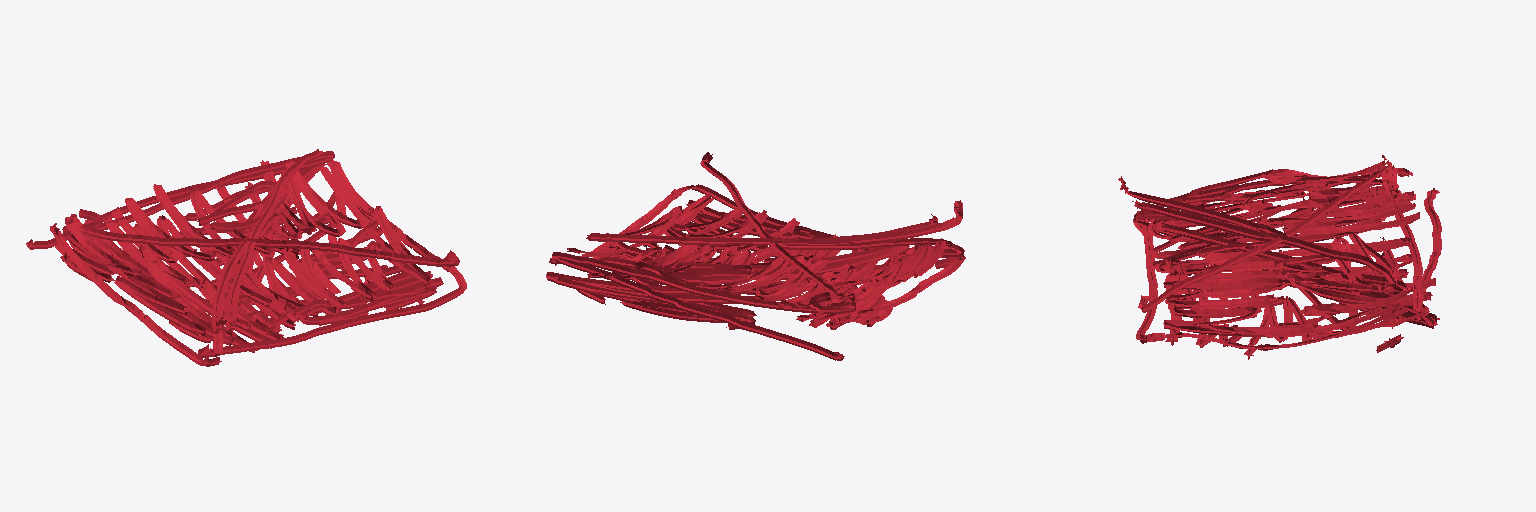
The picture shows the model from 3 angles: view 1: azimuth 30°, elevation 25°; view 2: azimuth 150°, elevation 25°; view 3: azimuth 270°, elevation 25°; orthographic projection.
Bounding box in the file's own units: 0.7991 × 0.1828 × 0.7339.
Materials: 1 (1 with a texture image).